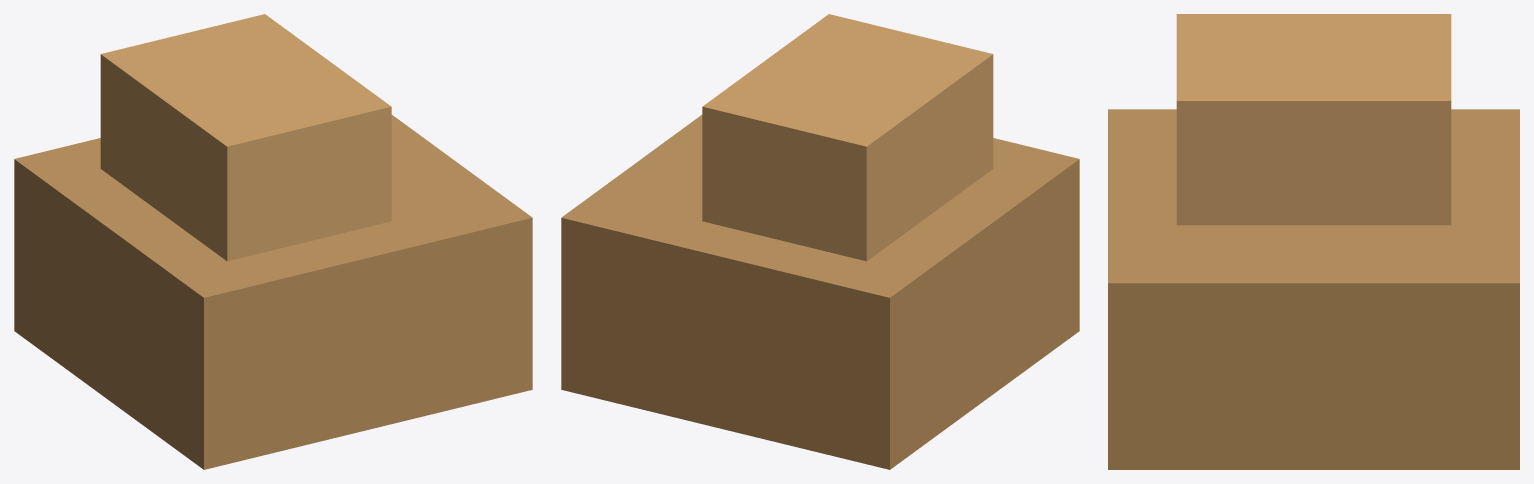
The model's file is antorchero_doble_01.glb.
The picture shows the model from 3 angles, left to right: view 1: azimuth 30°, elevation 25°; view 2: azimuth 150°, elevation 25°; view 3: azimuth 270°, elevation 25°; orthographic projection. The views are drawn at different scales.
Visible parts, largest first — view 1: antorchero_doble; view 2: antorchero_doble; view 3: antorchero_doble.
Boxes of the visible parts, box(x1,y1,x2,y2) form: antorchero_doble: box(14, 14, 532, 469); antorchero_doble: box(561, 14, 1079, 469); antorchero_doble: box(1108, 14, 1519, 469).
Size of the model in its own units: 0.6 by 0.5 by 0.6.
